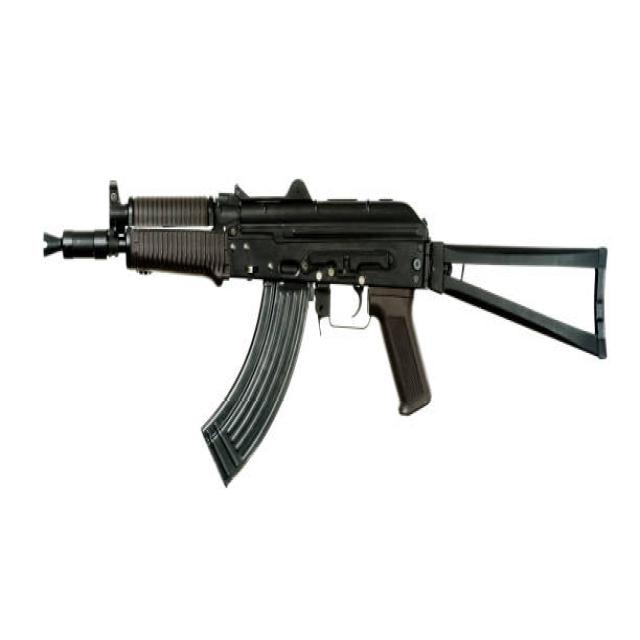rifle: (36, 170, 617, 496)
